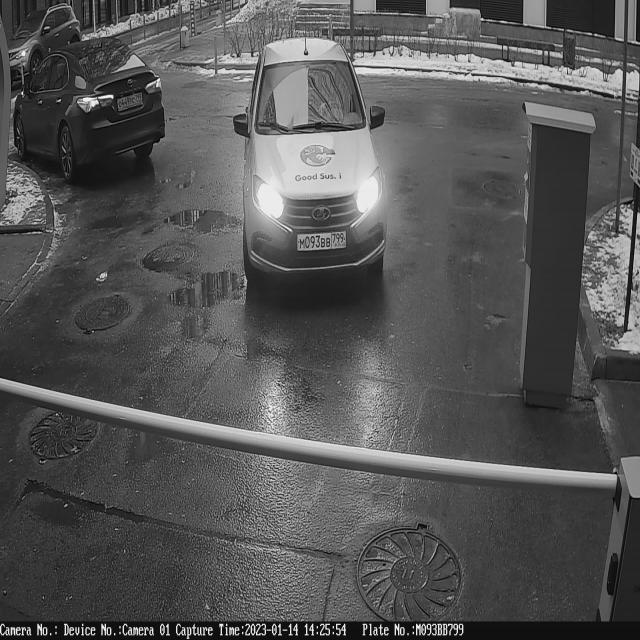car-plate-numbers: (296, 231, 352, 257)
